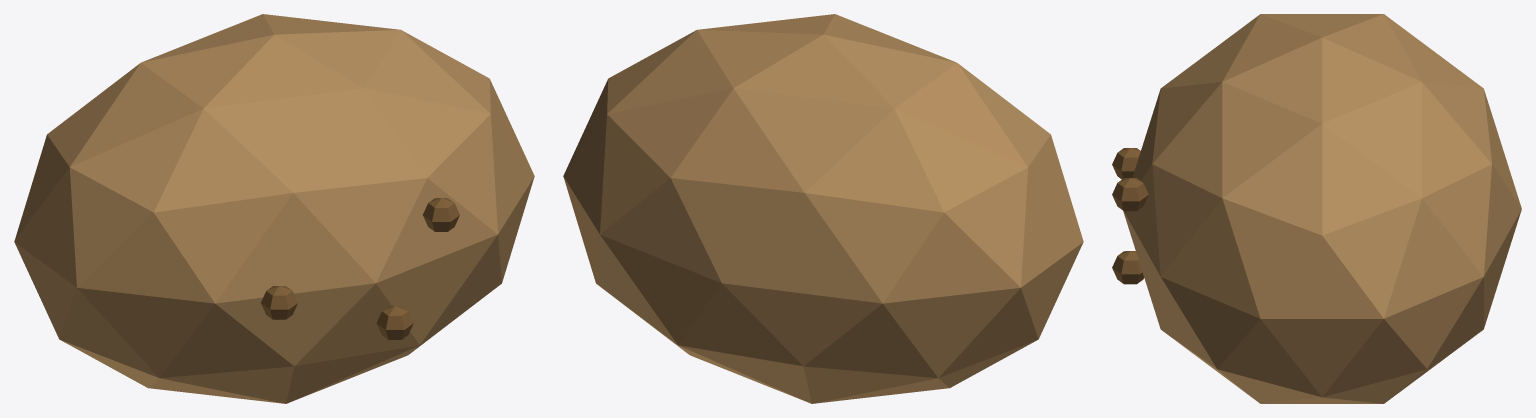
The model's file is potato.fbx.
The picture shows the model from 3 angles, left to right: view 1: azimuth 30°, elevation 25°; view 2: azimuth 150°, elevation 25°; view 3: azimuth 270°, elevation 25°; orthographic projection.
Parts seen in each view (by area): view 1: potato; view 2: potato; view 3: potato.
Boxes of the visible parts, bbox=[...] form: potato: bbox=[14, 14, 534, 403]; potato: bbox=[563, 14, 1083, 403]; potato: bbox=[1112, 14, 1521, 403].
Bounding box in the file's own units: 0.1978 × 0.144 × 0.156.
